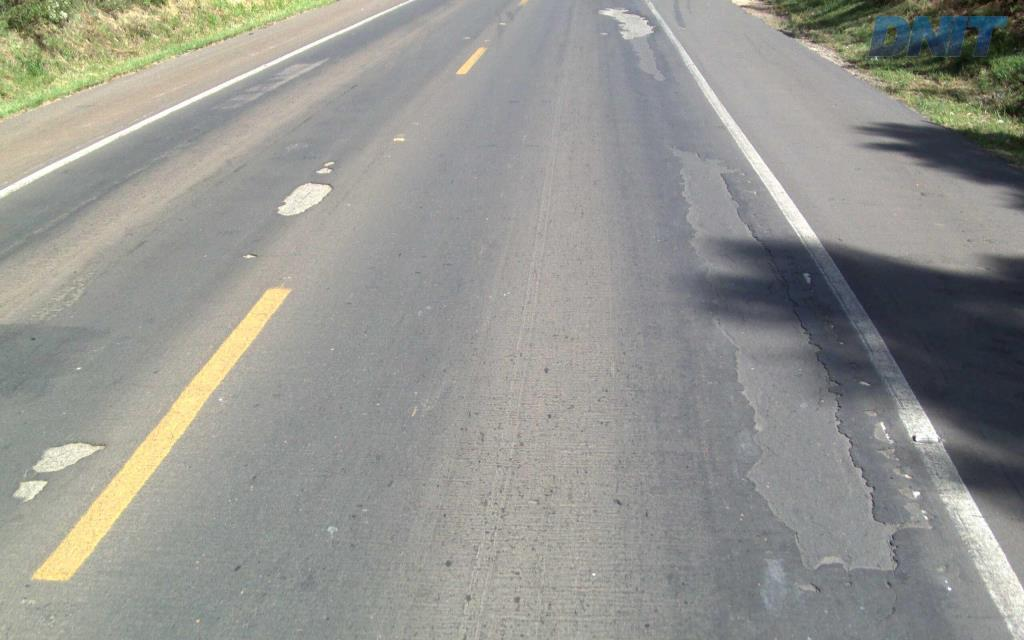pothole: (662, 140, 914, 584), (598, 3, 672, 86), (798, 583, 817, 593)
